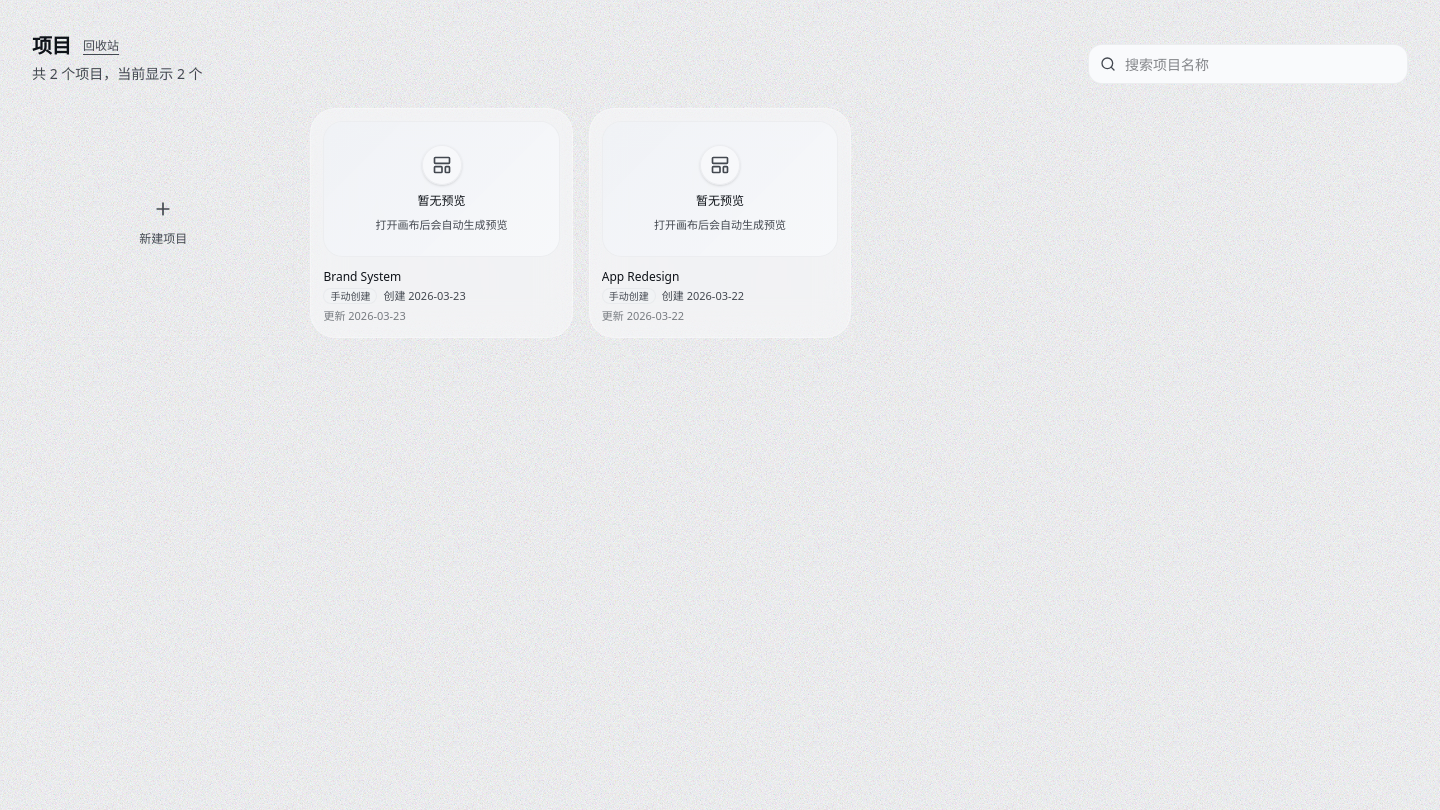
Test: Projects page › shows error toast on 500 during project creation
The width and height of the screenshot is (1440, 810).
Click the button "新建项目" at (163, 238), box [32,108,294,338]
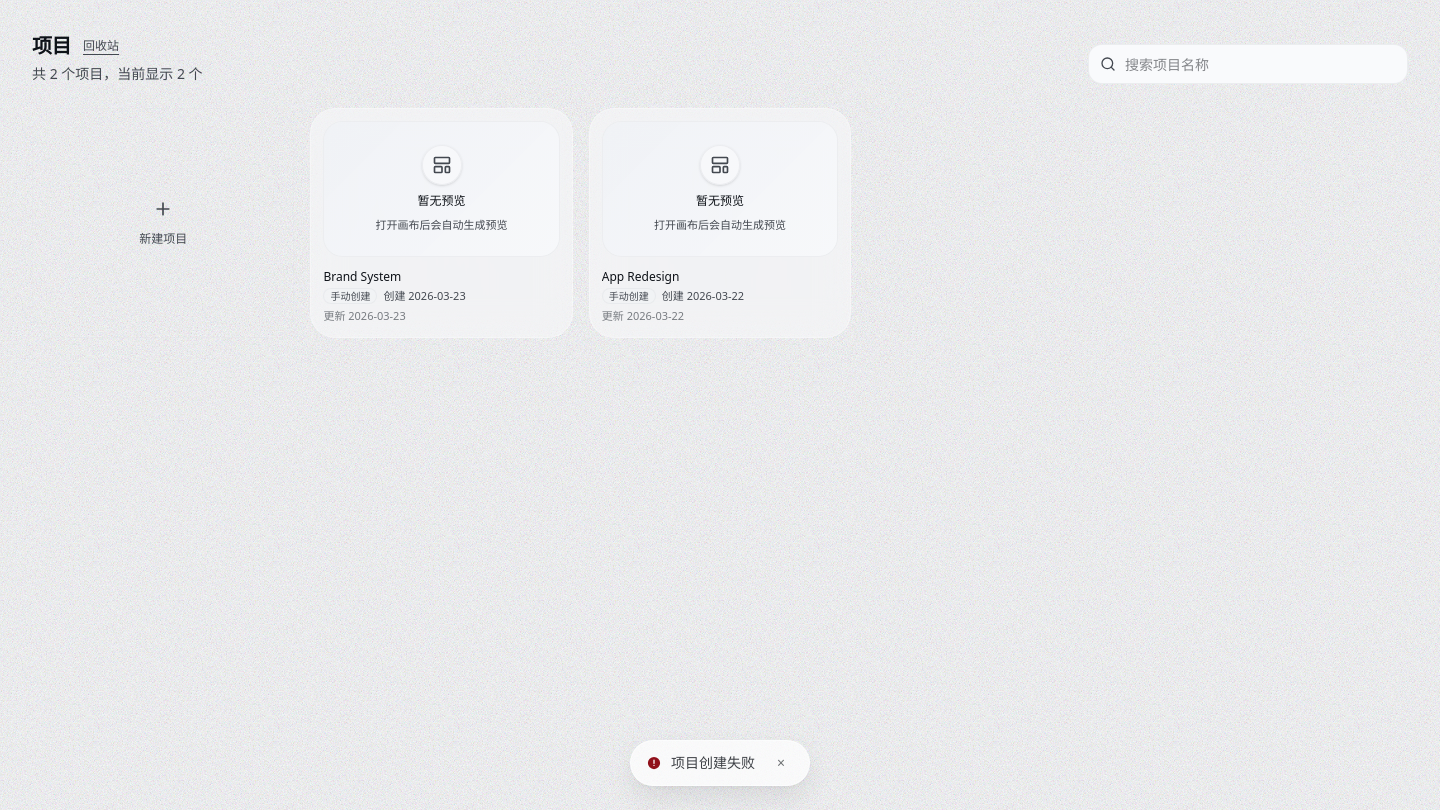
Check: the text "项目创建失败" is shown, box [671,753,755,773]
